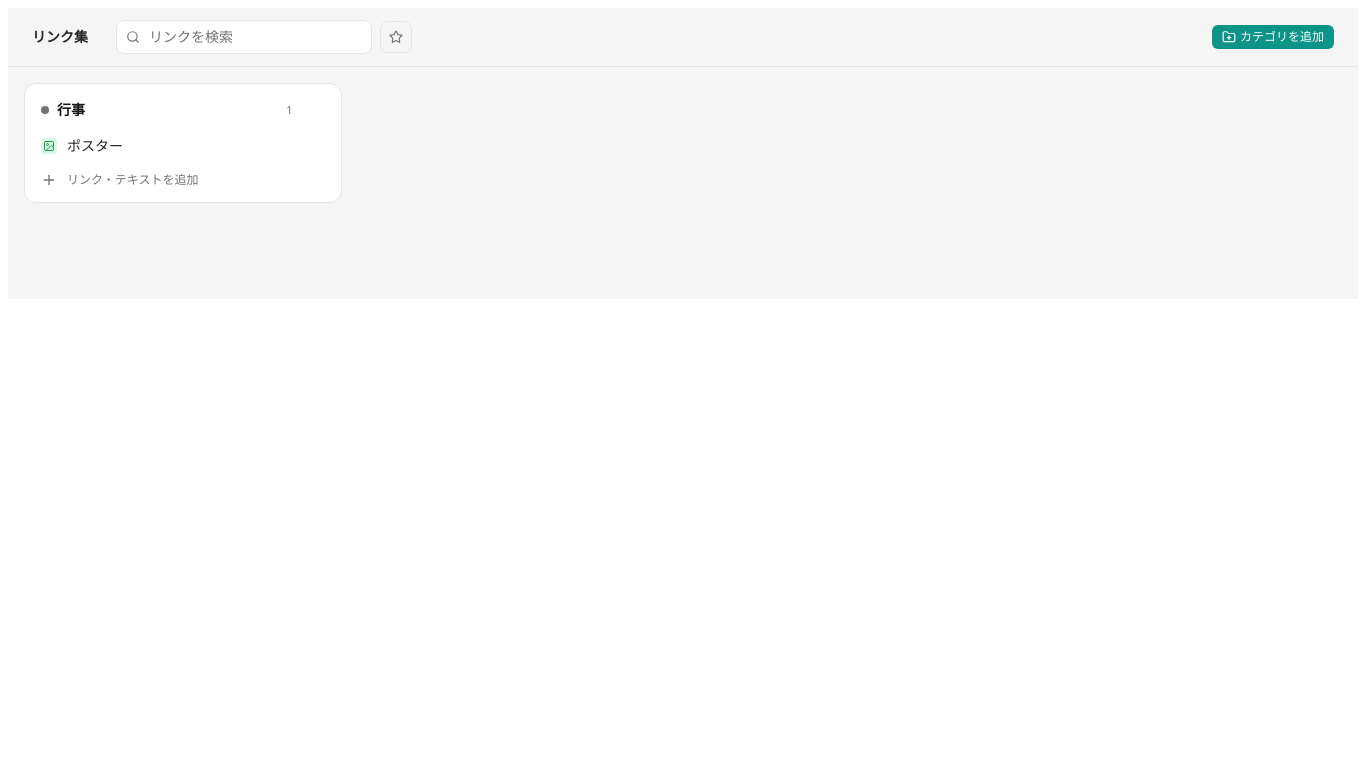
画像を部品の中で見る（viewImages） › 画像の下にメモを添えて見せる
The width and height of the screenshot is (1366, 768).
Click the link "ポスター" at (82, 146), box [41,136,123,155]
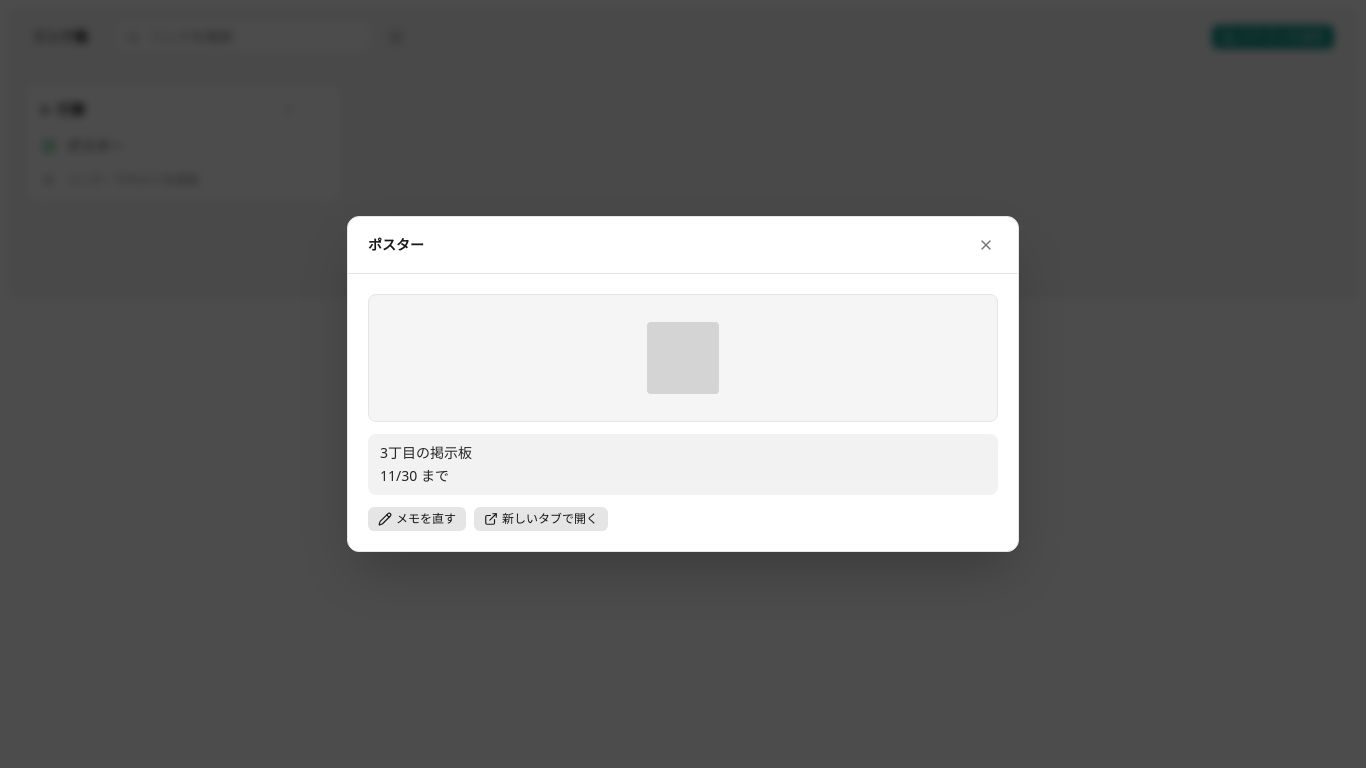
Check: the text with test id "image-viewer-memo" reads "3丁目の掲示板 11/30 まで", box [380,443,472,485]
Check: the button "新しいタブで開く" is shown, box [474,507,608,531]
